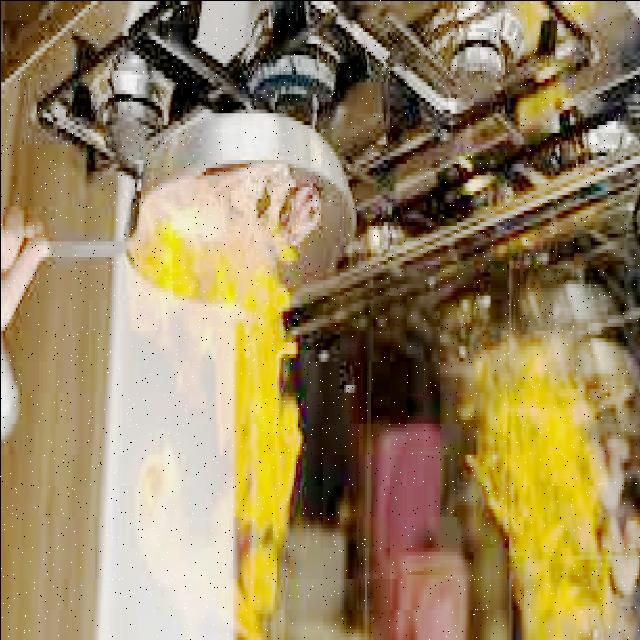api: (112, 226, 315, 634), (453, 350, 639, 630)
